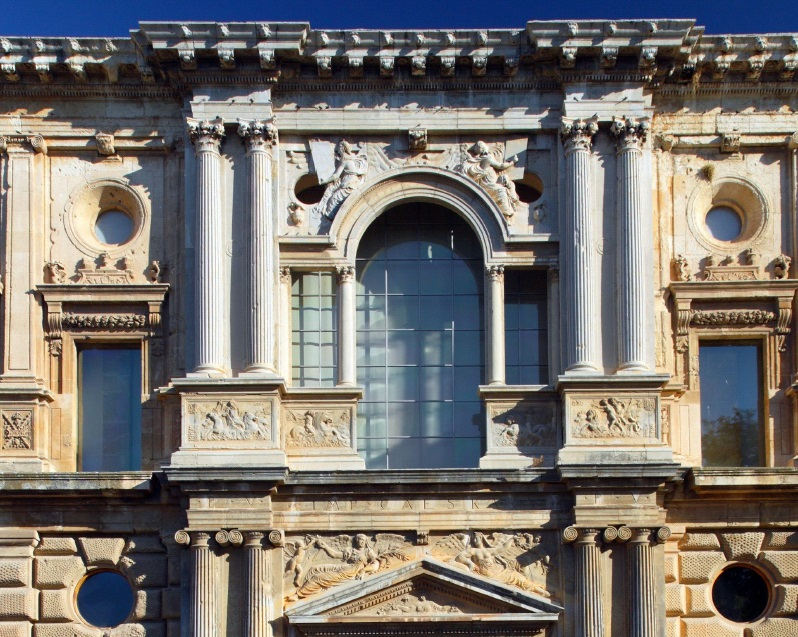fronton: (277, 555, 570, 634)
ojo-de-buey: (705, 550, 785, 631), (63, 557, 145, 632), (65, 178, 143, 252), (691, 173, 767, 248)
serliana: (270, 161, 559, 390)
vano-adintelado: (57, 327, 152, 478), (688, 325, 778, 474)
